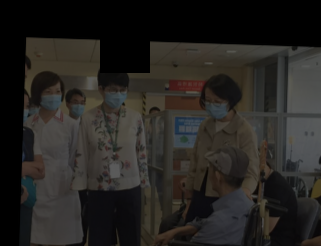with_mask: (203, 95, 229, 121), (39, 86, 62, 112), (103, 86, 129, 108), (69, 98, 85, 117), (28, 102, 42, 118)
